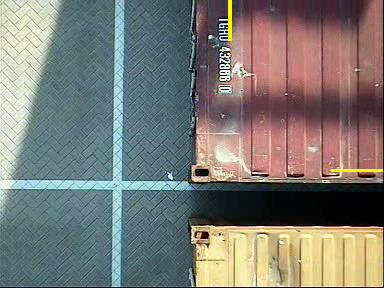groundmarker_2: (195, 173, 228, 242), (198, 3, 231, 72)
